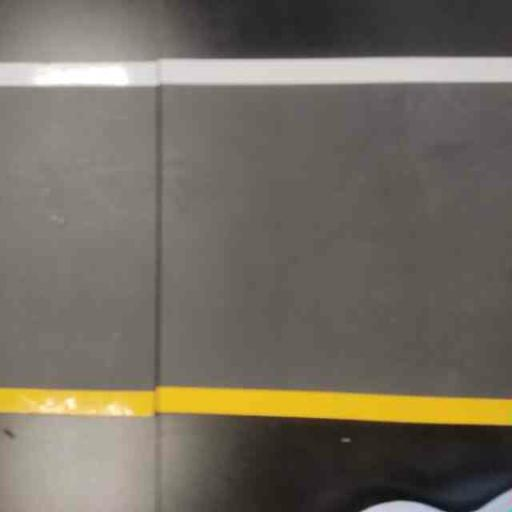straight: (6, 37, 512, 429)
